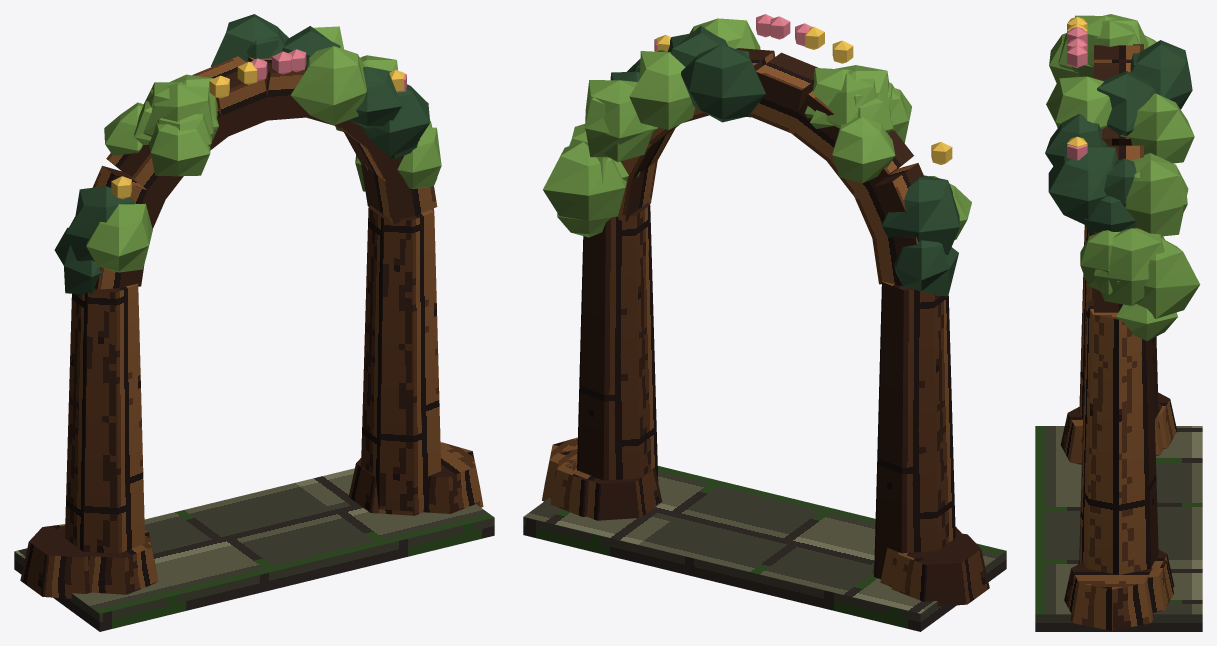
Rendered from vine_arch.glb.
3 renders of one model, left to right at view 1: azimuth 30°, elevation 25°; view 2: azimuth 150°, elevation 25°; view 3: azimuth 270°, elevation 25°, orthographic. The views are drawn at different scales.
Parts seen in each view (by area): view 1: vine_arch; view 2: vine_arch; view 3: vine_arch.
Part boxes in pixels (x1,y1,x2,y2): vine_arch: [14, 14, 494, 631]; vine_arch: [523, 14, 1006, 631]; vine_arch: [1035, 14, 1202, 631].
Size of the model in its own units: 3.56 by 3.99 by 1.2.
3 materials, 2 textured.
